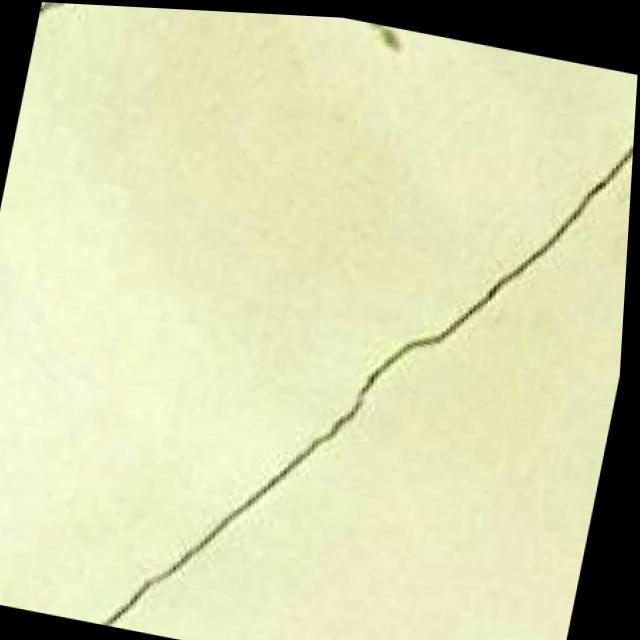Crack: (81, 5, 640, 640), (36, 2, 121, 41)
